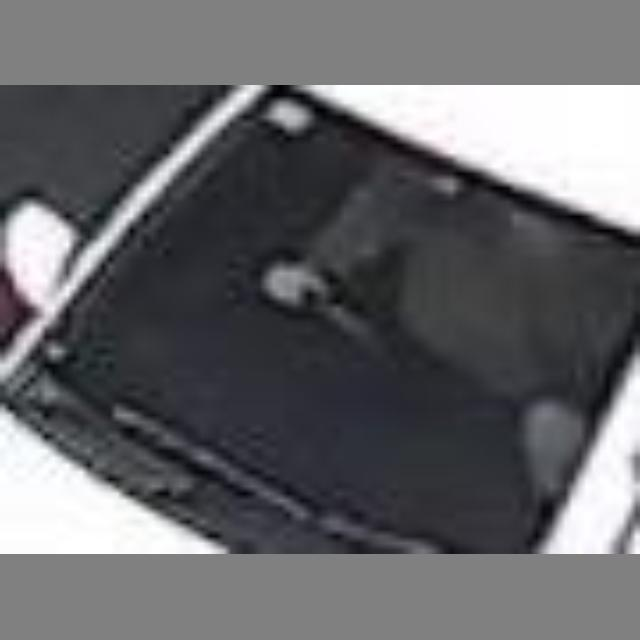tidak-pakai: (320, 142, 590, 419)
